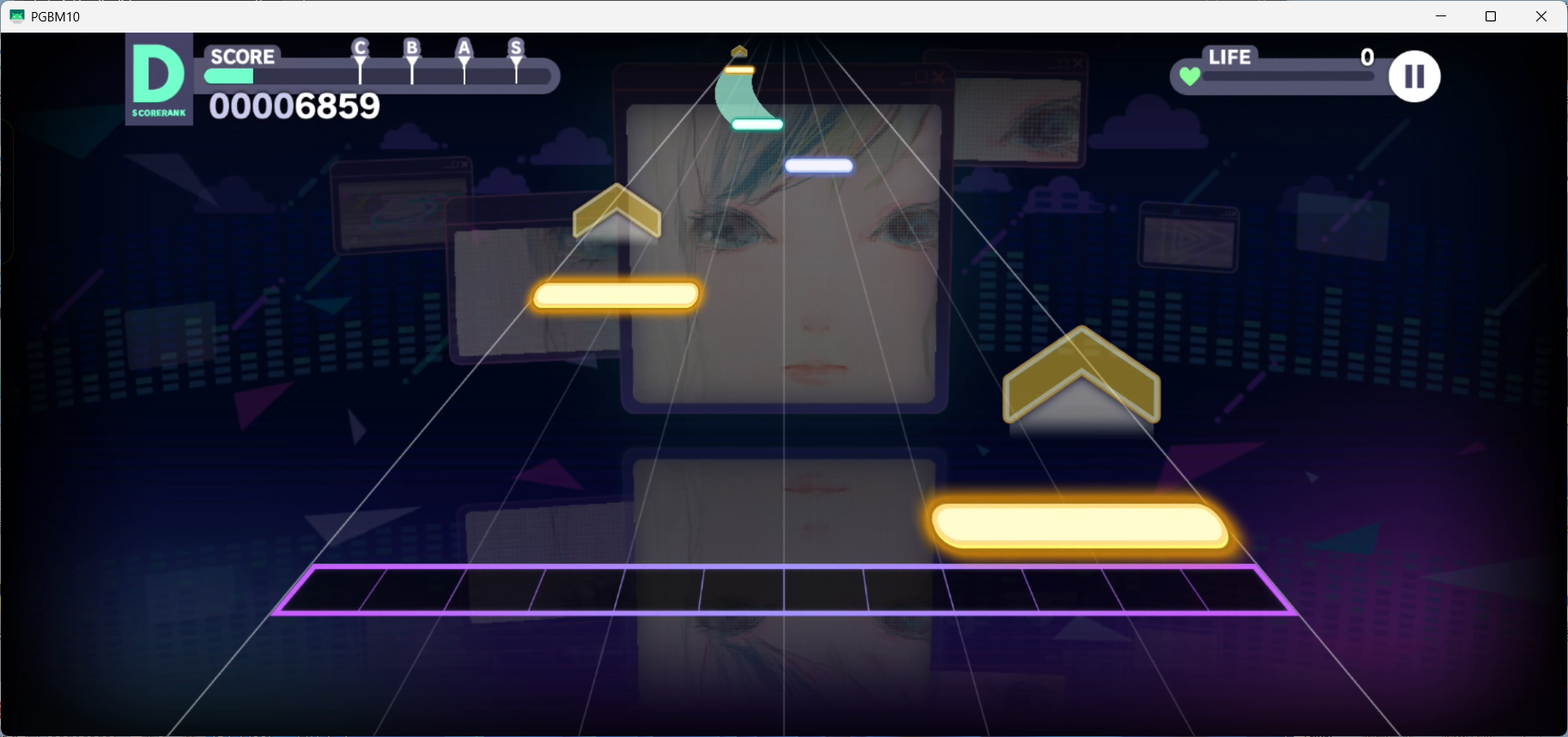flick: (1003, 327, 1162, 447), (573, 182, 661, 246), (731, 44, 748, 58)
hold: (714, 74, 775, 118)
tap: (931, 503, 1231, 550), (534, 281, 700, 309), (785, 158, 854, 173), (732, 118, 783, 130), (724, 65, 755, 74)
